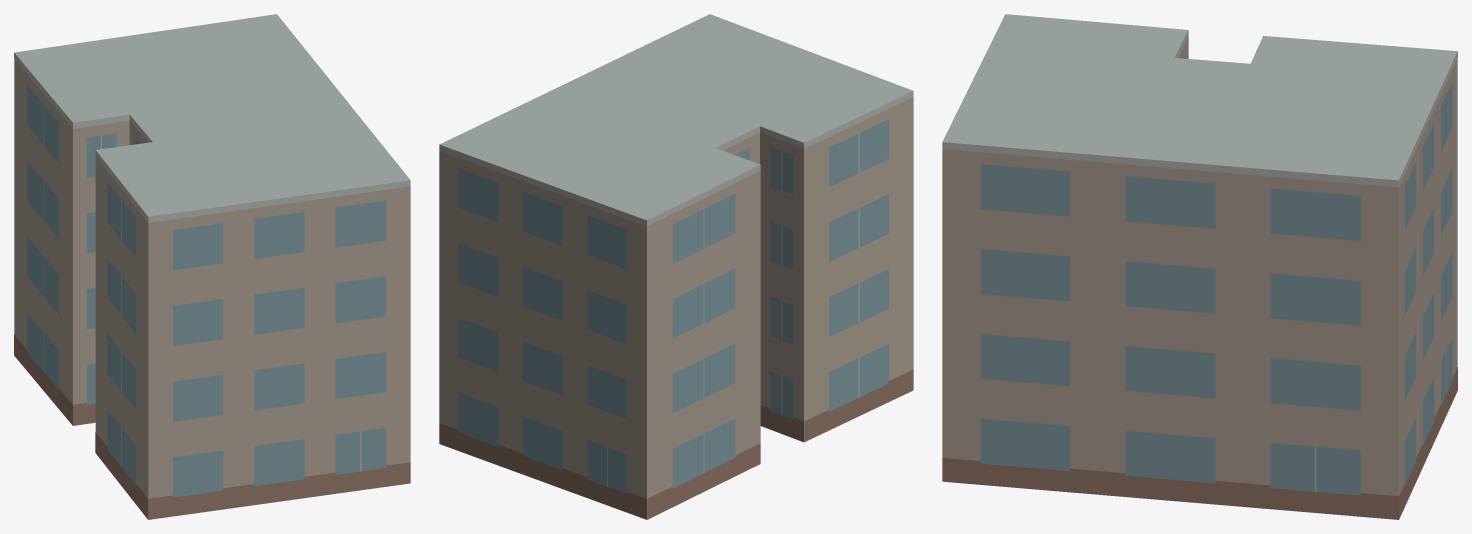
File: survey-upis-32785015.glb
The picture shows the model from 3 angles, left to right: view 1: azimuth 30°, elevation 25°; view 2: azimuth 150°, elevation 25°; view 3: azimuth 270°, elevation 25°; orthographic projection. The views are drawn at different scales.
Parts seen in each view (by area): view 1: survey-upis-32785015.tmp; view 2: survey-upis-32785015.tmp; view 3: survey-upis-32785015.tmp.
Part boxes in pixels (x1,y1,x2,y2): survey-upis-32785015.tmp: (14, 14, 410, 519); survey-upis-32785015.tmp: (439, 14, 913, 519); survey-upis-32785015.tmp: (942, 14, 1457, 519).
Size of the model in its own units: 12.63 by 12 by 16.52.
